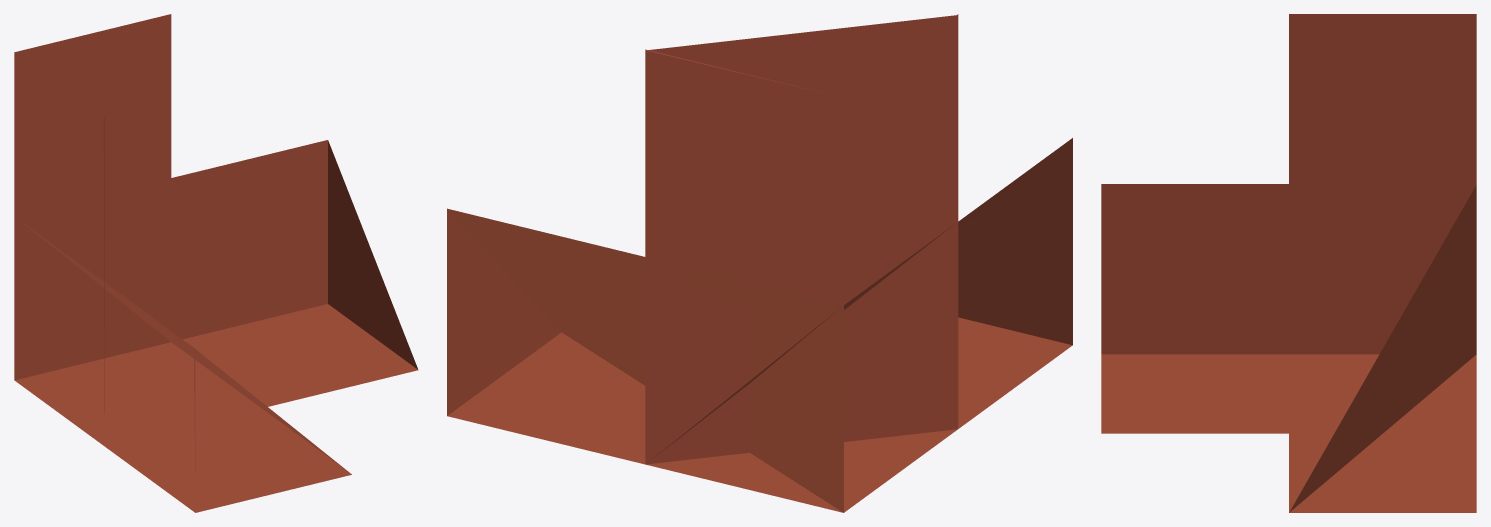
The model's file is r5c5_border_brown.gltf.
3 renders of one model, left to right at view 1: azimuth 30°, elevation 25°; view 2: azimuth 150°, elevation 25°; view 3: azimuth 270°, elevation 25°, orthographic. The views are drawn at different scales.
Visible parts, largest first — view 1: r5c5_border_brown; view 2: r5c5_border_brown; view 3: r5c5_border_brown.
Part boxes in pixels (x1,y1,x2,y2): r5c5_border_brown: (14, 14, 418, 512); r5c5_border_brown: (447, 14, 1072, 512); r5c5_border_brown: (1101, 14, 1476, 512).
Bounding box in the file's own units: 2.1 × 2.1 × 2.1.
Materials: 1 (1 with a texture image).
